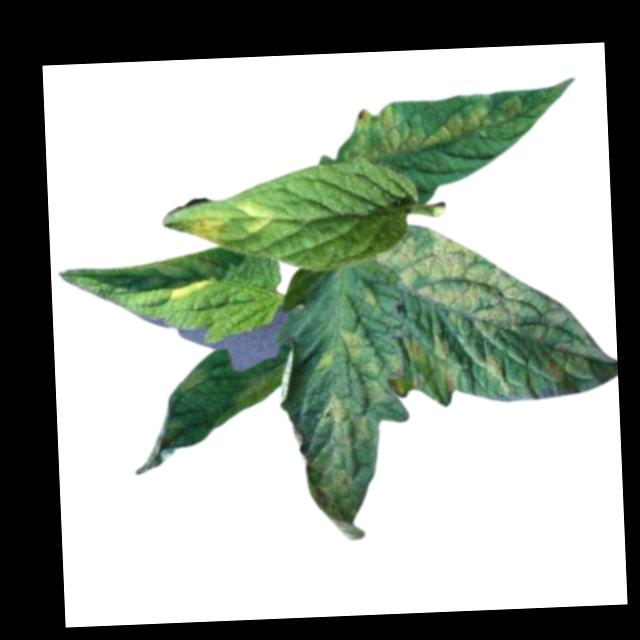Leaf_Mold: (376, 218, 616, 403), (283, 324, 413, 543), (353, 90, 528, 161), (189, 209, 234, 245), (234, 195, 274, 233), (177, 364, 213, 395), (169, 281, 214, 302)
